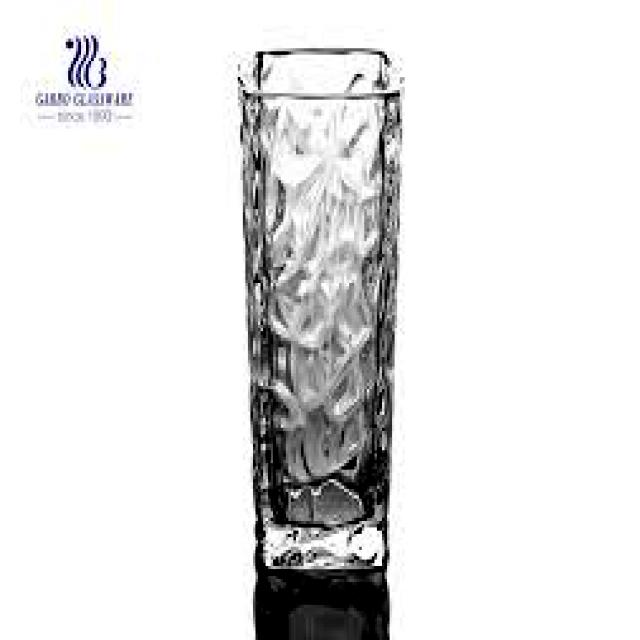Glass: (232, 42, 406, 580)
